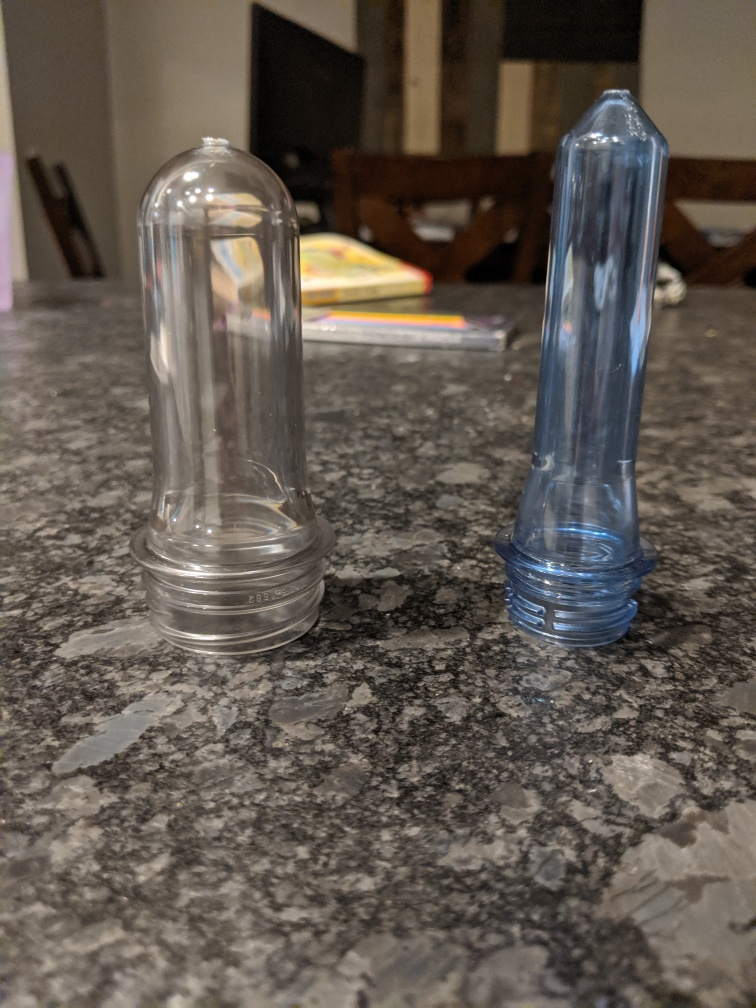preform: (111, 122, 344, 668), (488, 72, 681, 655)
